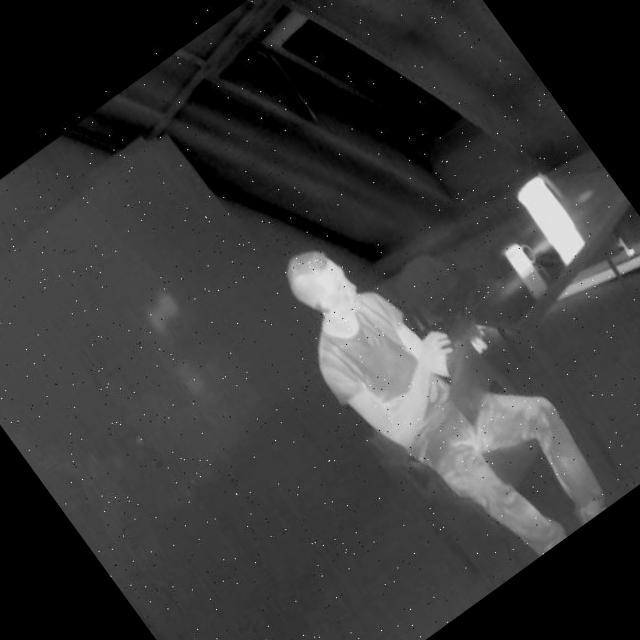person: (252, 195, 604, 600)
